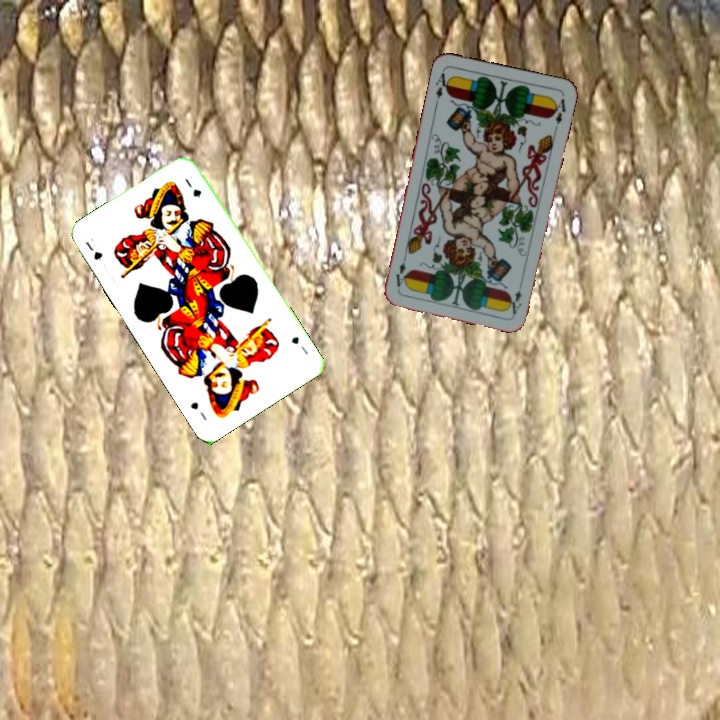EA: (505, 277, 525, 317), (431, 66, 453, 101)
GU: (81, 237, 105, 263), (287, 332, 311, 357)
